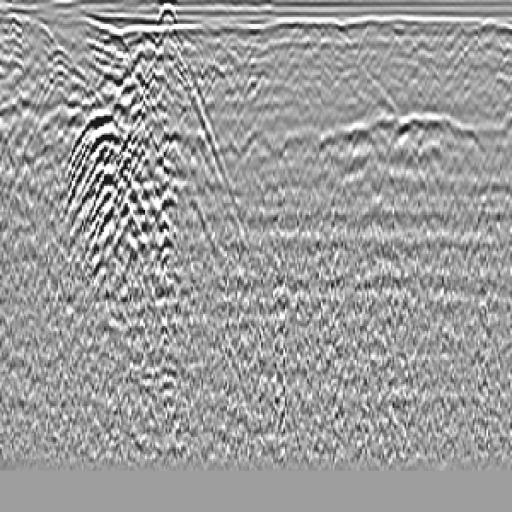non-metallic: (56, 26, 203, 300)
